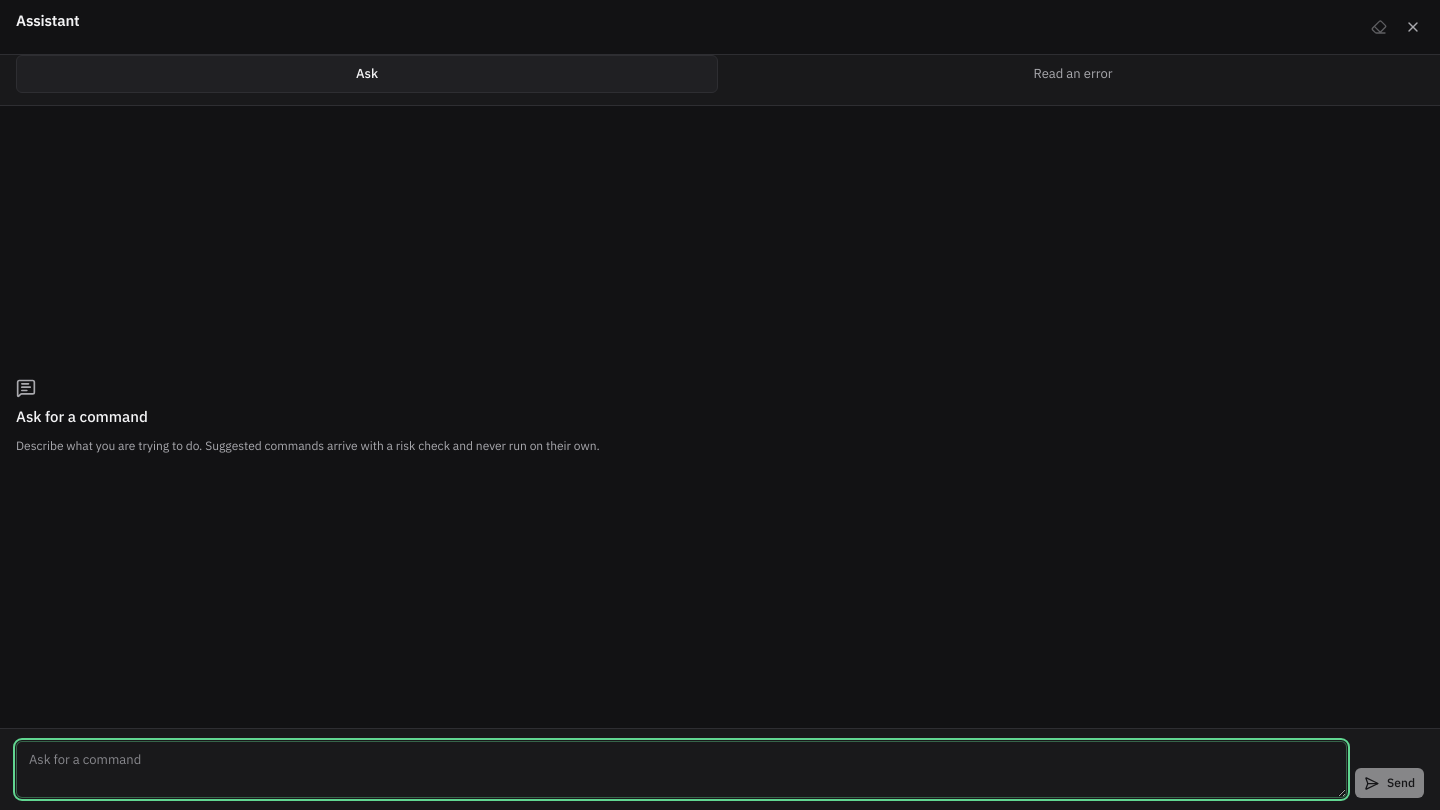
Scenario: AssistantDock › shows the answer, the proposal, and its risk without offering to run it
Type "how do I free disk space?" into the text box named "Message the assistant" at (682, 770), box [16, 741, 1347, 798]
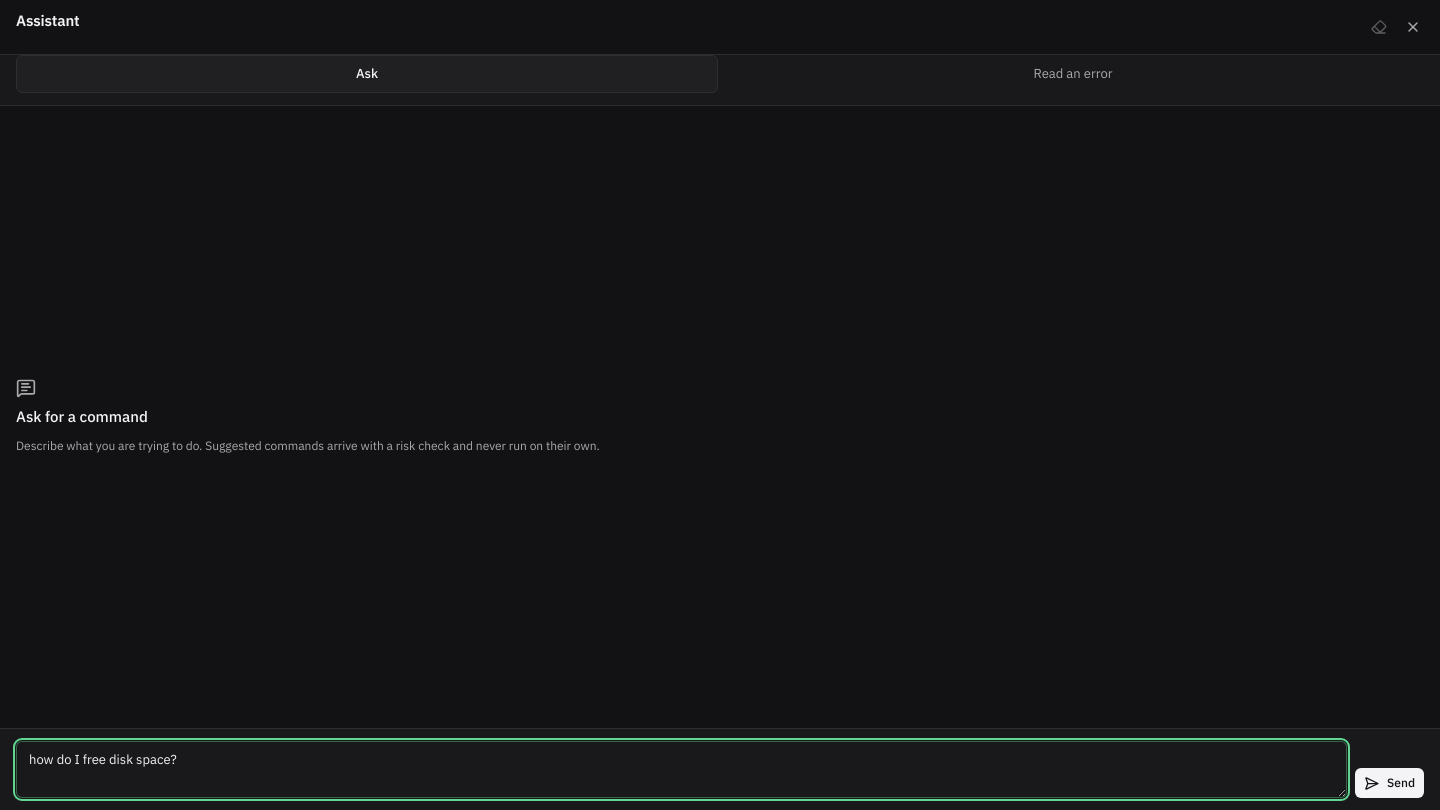
Click the button "Send" at (1390, 783), box [1355, 768, 1424, 798]
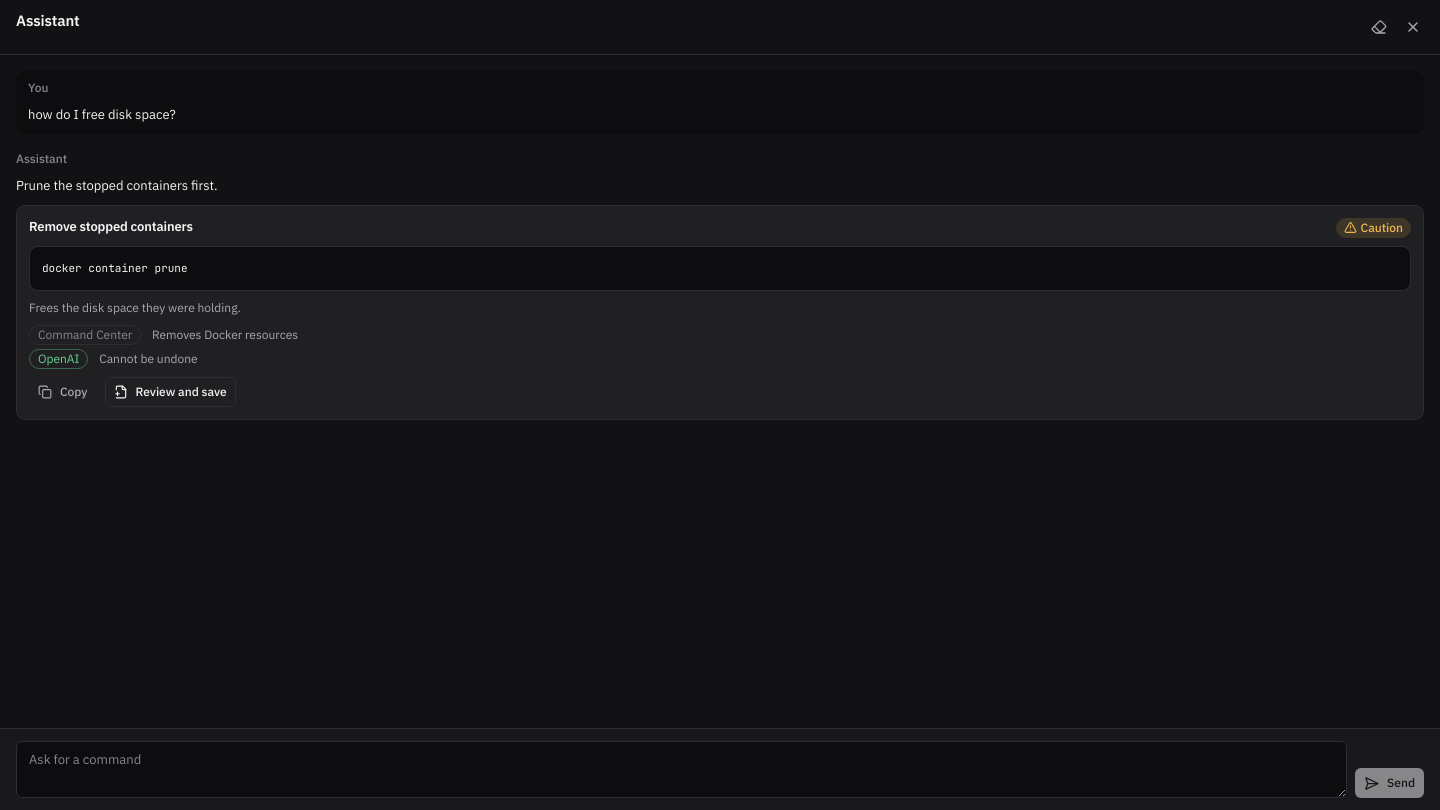
Now the text "Prune the stopped containers first." is shown, box [16, 177, 218, 194]
Now the text "docker container prune" is shown, box [42, 261, 188, 275]
Now the text "Caution" is shown, box [1336, 218, 1411, 238]
